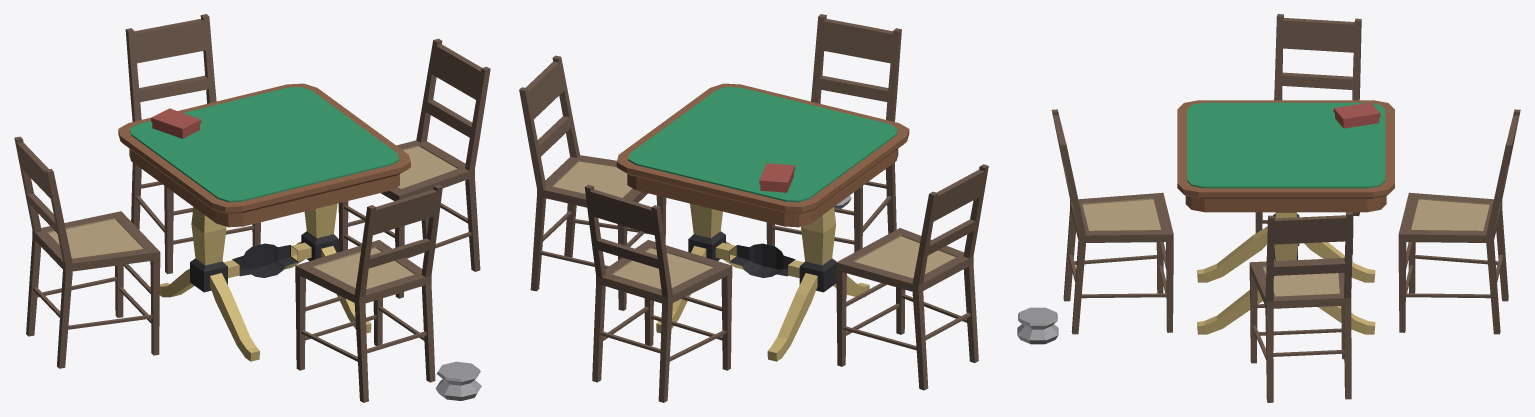
File: mesabillar.fbx
3 views of the same model, side by side, from view 1: azimuth 30°, elevation 25°; view 2: azimuth 150°, elevation 25°; view 3: azimuth 270°, elevation 25° (orthographic). The views are drawn at different scales.
Visible parts, largest first — view 1: mesa, silla_A, silla_D, silla_B, silla_C, escupidera, caja_fichas; view 2: mesa, silla_C, silla_D, silla_B, silla_A, caja_fichas; view 3: mesa, silla_B, silla_C, silla_A, silla_D, escupidera, caja_fichas.
Boxes of the visible parts, x1,y1,x2,y2 form: mesa: (118, 83, 410, 361); silla_A: (295, 184, 442, 402); silla_D: (14, 136, 160, 368); silla_B: (338, 38, 490, 298); silla_C: (125, 14, 260, 274); escupidera: (435, 361, 481, 400); caja_fichas: (151, 108, 201, 138); mesa: (616, 83, 909, 361); silla_C: (584, 184, 732, 402); silla_D: (836, 164, 988, 390); silla_B: (519, 55, 666, 310); silla_A: (766, 14, 901, 252); caja_fichas: (759, 163, 795, 192); mesa: (1177, 100, 1394, 334); silla_B: (1249, 212, 1352, 402); silla_C: (1398, 109, 1520, 334); silla_A: (1051, 109, 1173, 334); silla_D: (1255, 14, 1361, 254); escupidera: (1017, 307, 1058, 344); caja_fichas: (1333, 102, 1380, 128).
Size of the model in its own units: 205 by 88.5 by 213.
